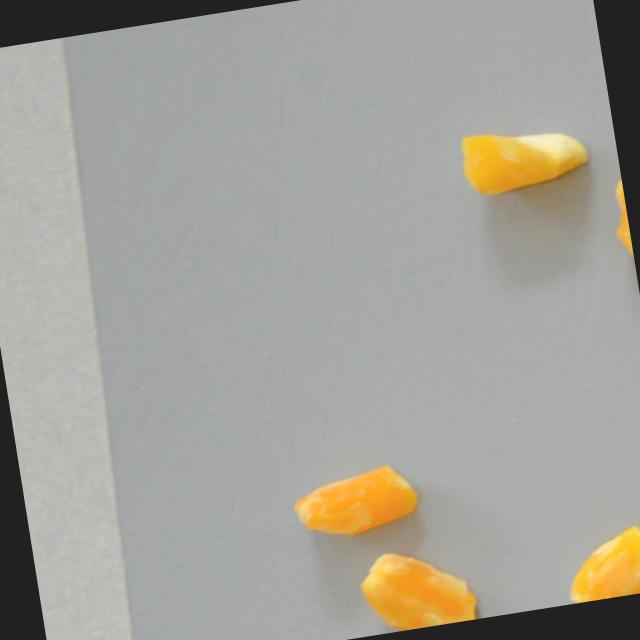dañado: (343, 536, 488, 638), (282, 456, 430, 549), (451, 114, 598, 206), (555, 520, 640, 605), (601, 173, 636, 275)
